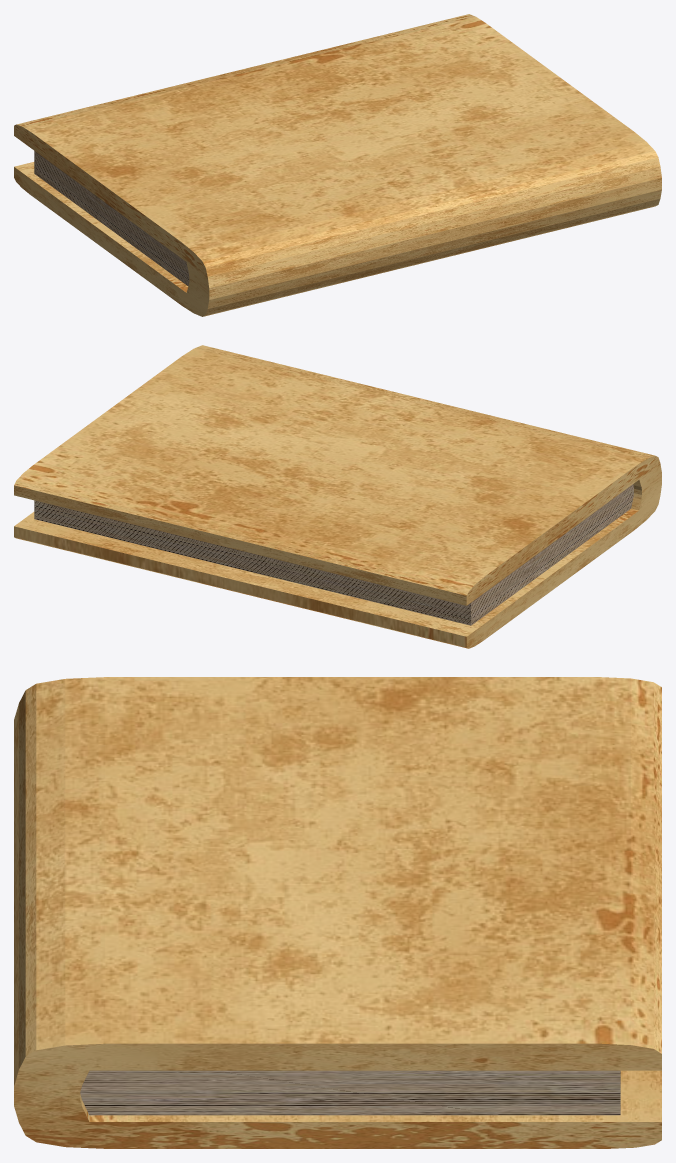
Rendered from libro_claro(1).fbx.
The picture shows the model from 3 angles, top to bottom: view 1: azimuth 30°, elevation 25°; view 2: azimuth 150°, elevation 25°; view 3: azimuth 270°, elevation 25°; orthographic projection. The views are drawn at different scales.
Visible parts, largest first — view 1: Libro_claro; view 2: Libro_claro; view 3: Libro_claro.
Part boxes in pixels (x1,y1,x2,y2): Libro_claro: (14, 14, 661, 316); Libro_claro: (14, 345, 661, 648); Libro_claro: (14, 677, 661, 1148).
Bounding box in the file's own units: 29.13 × 3.9 × 21.76.
